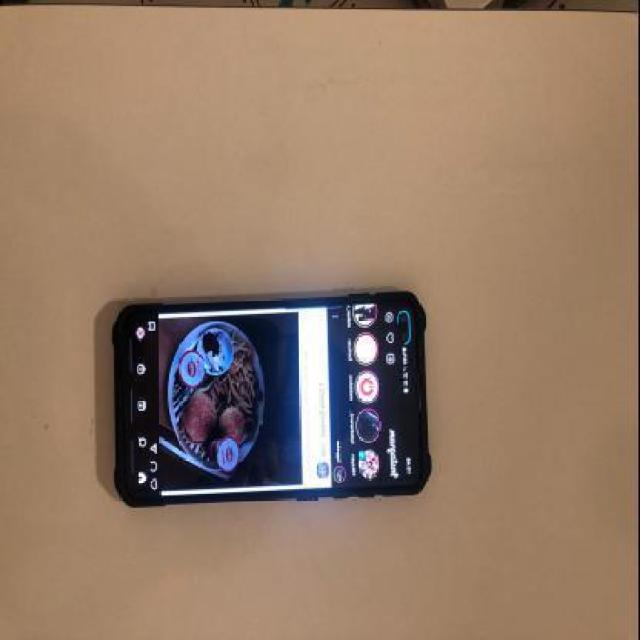mobile: (110, 289, 436, 505)
